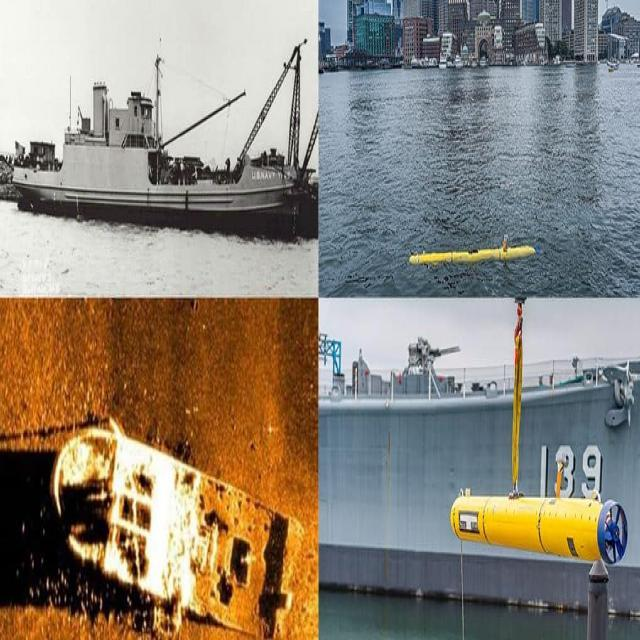shipwreck: (11, 45, 320, 236), (51, 416, 298, 634), (448, 462, 630, 568), (406, 232, 537, 278)
